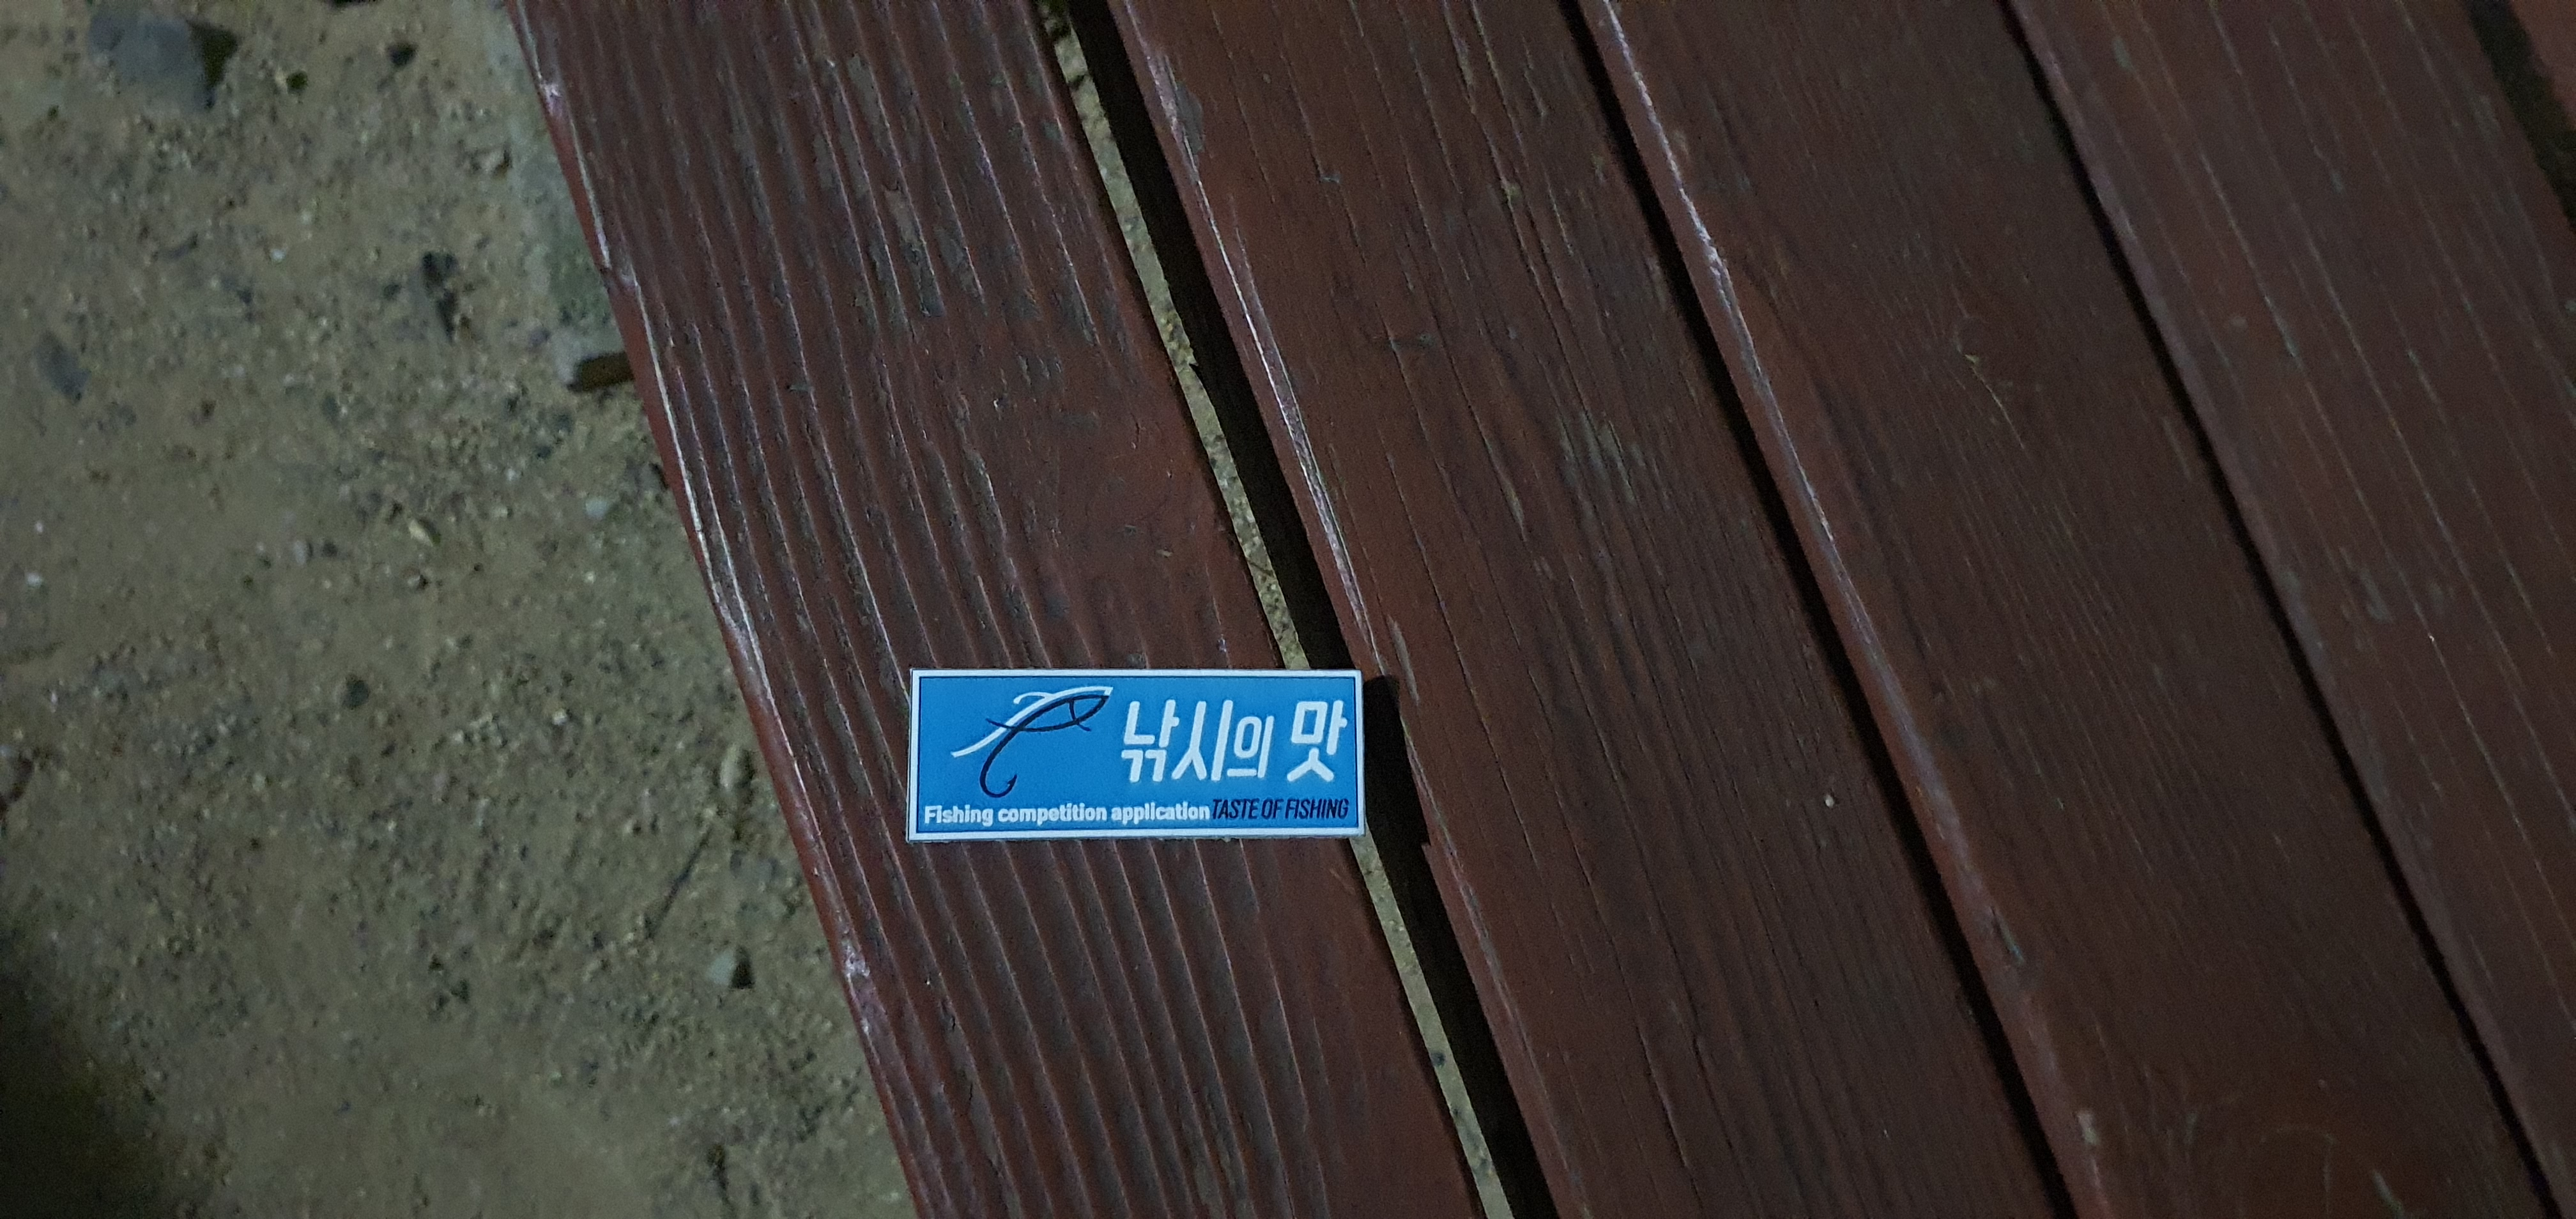tag: (905, 660, 1365, 835)
